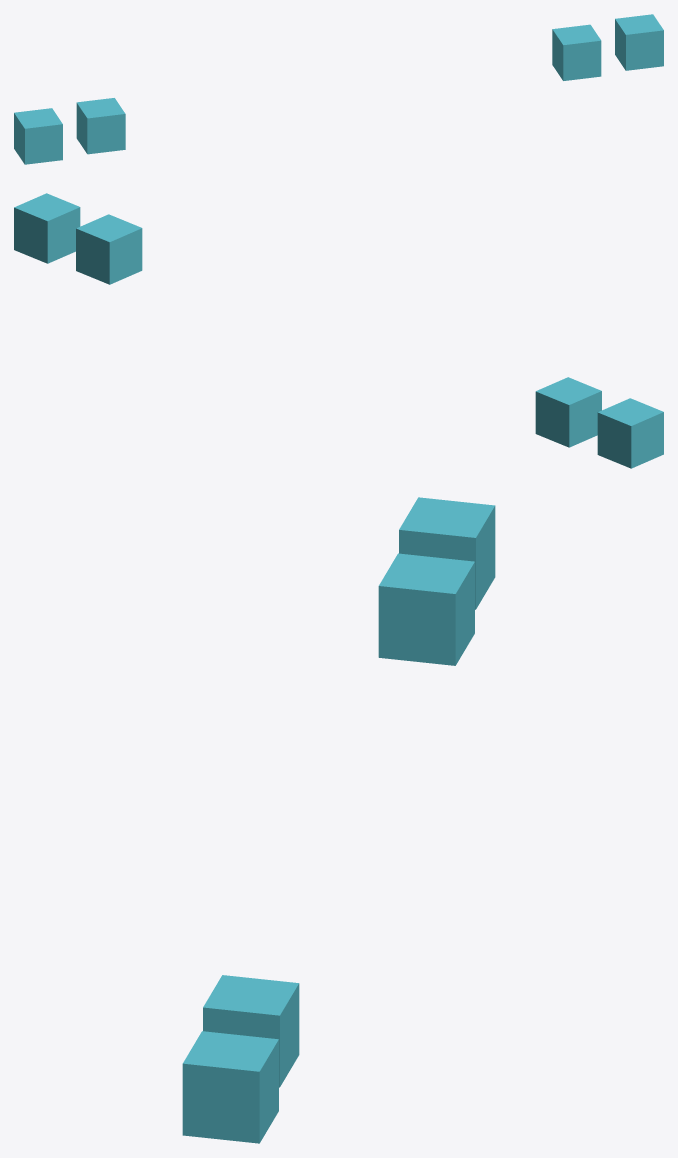
File: 985_chimney.glb
3 renders of one model, top to bottom at view 1: azimuth 30°, elevation 25°; view 2: azimuth 150°, elevation 25°; view 3: azimuth 270°, elevation 25°, orthographic. The views are drawn at different scales.
Visible parts, largest first — view 1: Box005, Box007, Box006, Box008; view 2: Box008, Box005, Box007, Box006; view 3: Box006, Box007, Box008, Box005.
Boxes of the visible parts, box(x1,y1,x2,y2) form: Box005: box(552, 24, 601, 80); Box007: box(76, 98, 125, 154); Box006: box(615, 14, 663, 70); Box008: box(14, 108, 62, 164); Box008: box(597, 398, 663, 468); Box005: box(76, 214, 142, 284); Box007: box(535, 377, 601, 447); Box006: box(14, 193, 80, 263); Box006: box(182, 1031, 278, 1143); Box007: box(378, 553, 474, 665); Box008: box(399, 497, 495, 609); Box005: box(203, 975, 299, 1087).
Bounding box in the file's own units: 14.23 × 0.8302 × 3.27.
